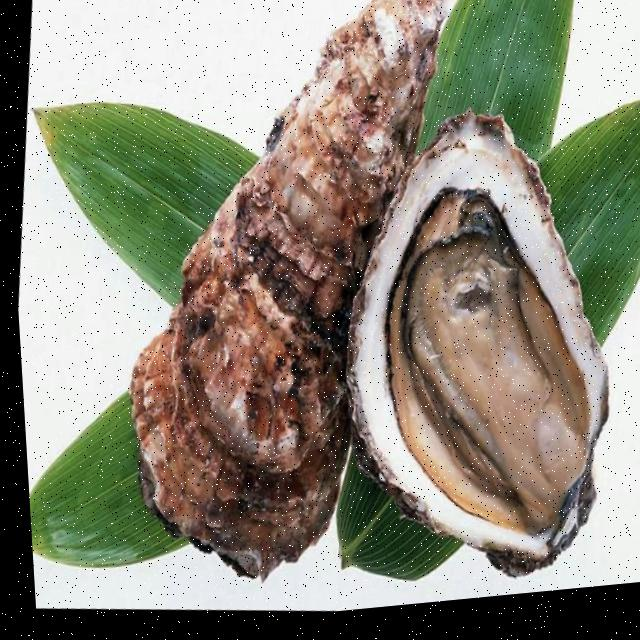Oyster-Indeterminate: (91, 0, 486, 607)
Oyster-Open: (303, 80, 640, 604)
